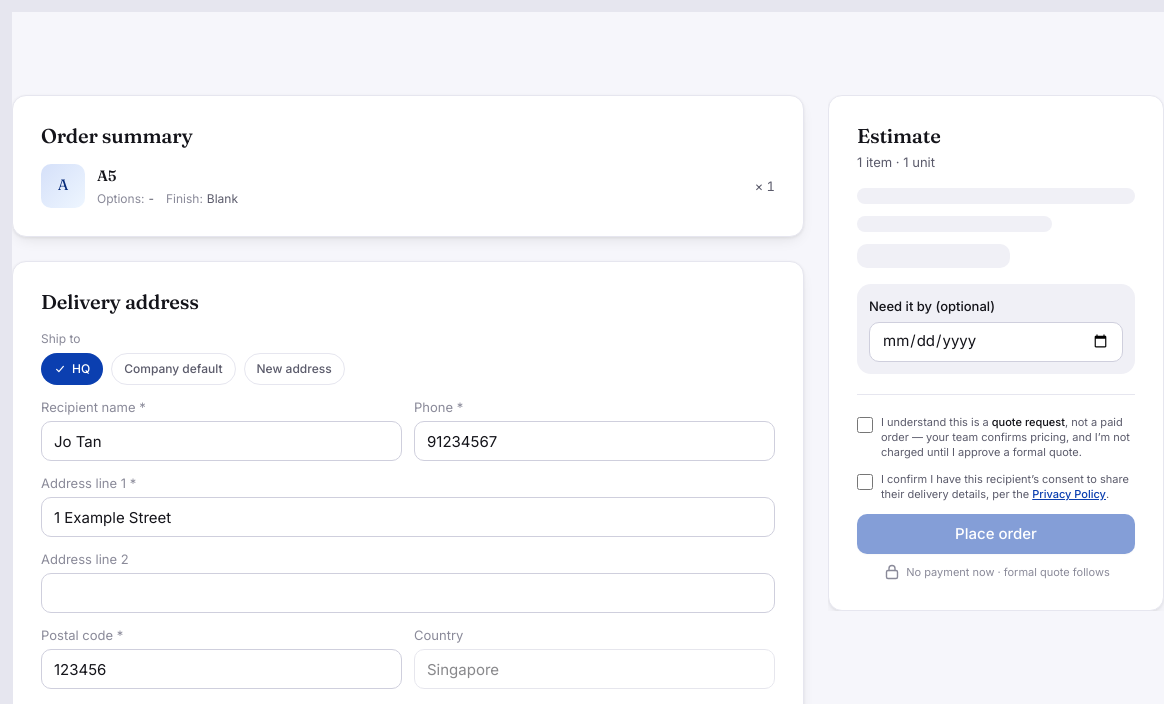
Test: falls back to the generic message when the store has no specific reason
The width and height of the screenshot is (1164, 704).
Click the checkbox labelled "quote request" at coordinates (865, 424), box [857,416,873,432]
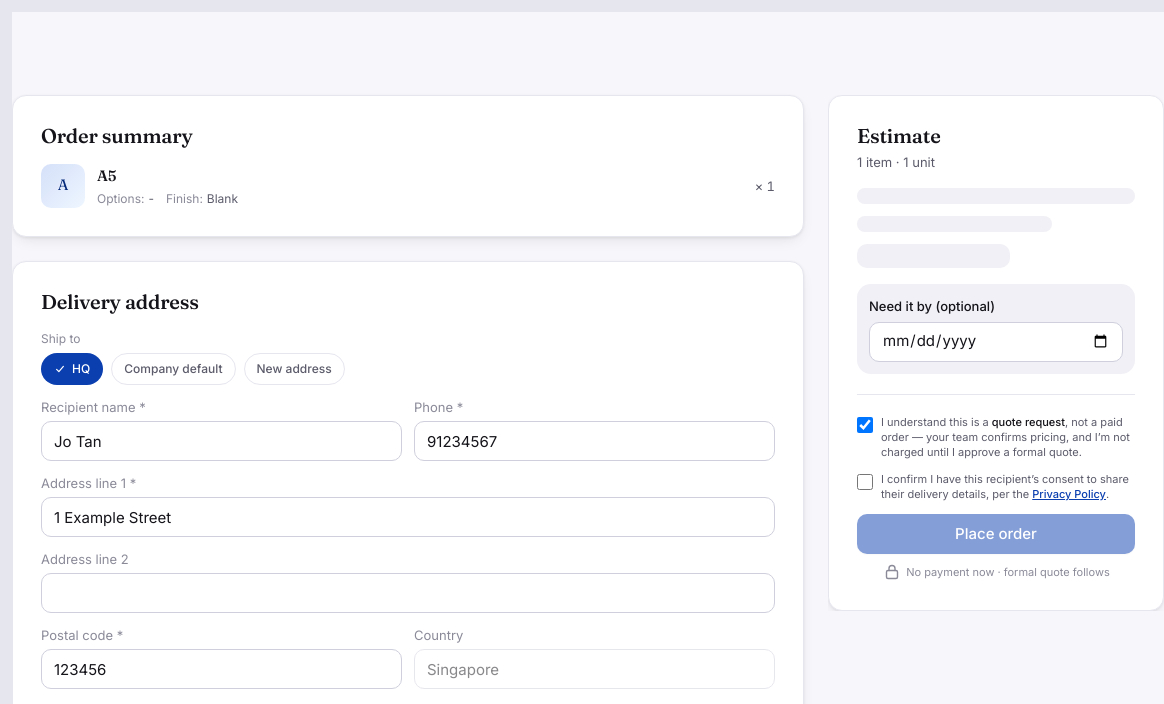
Click the checkbox labelled "recipient" at coordinates (865, 482), box [857,474,873,490]
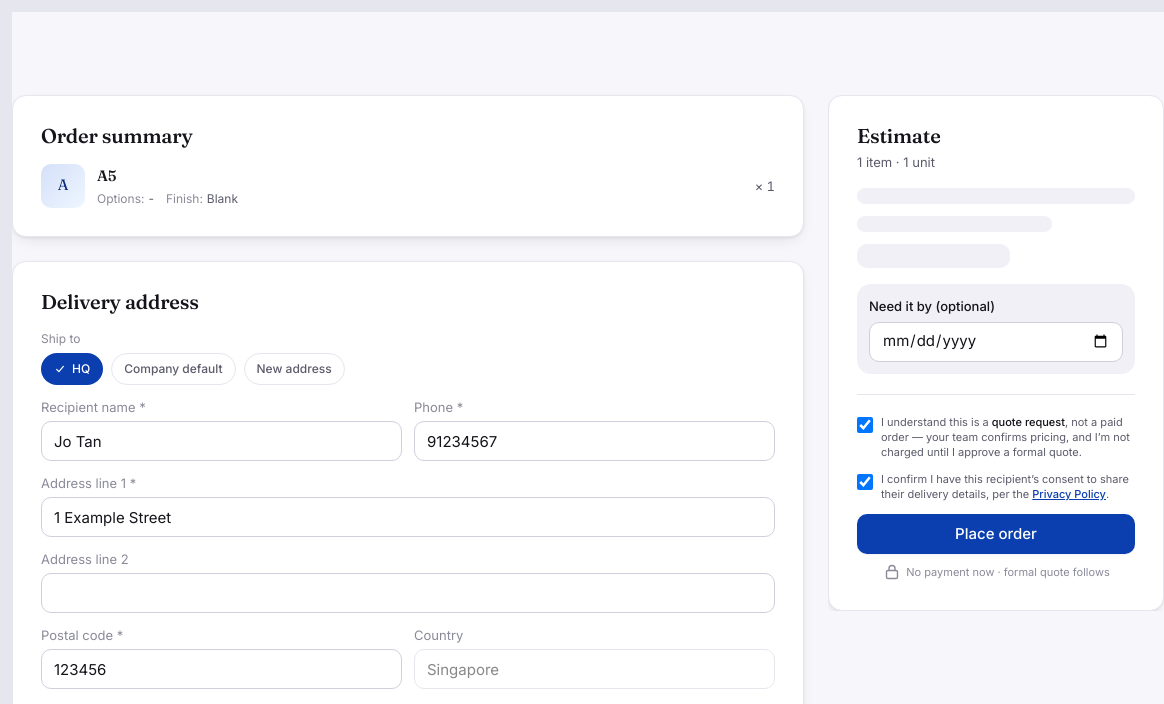
Click the button "Place order" at coordinates (996, 534), box [857,514,1135,554]
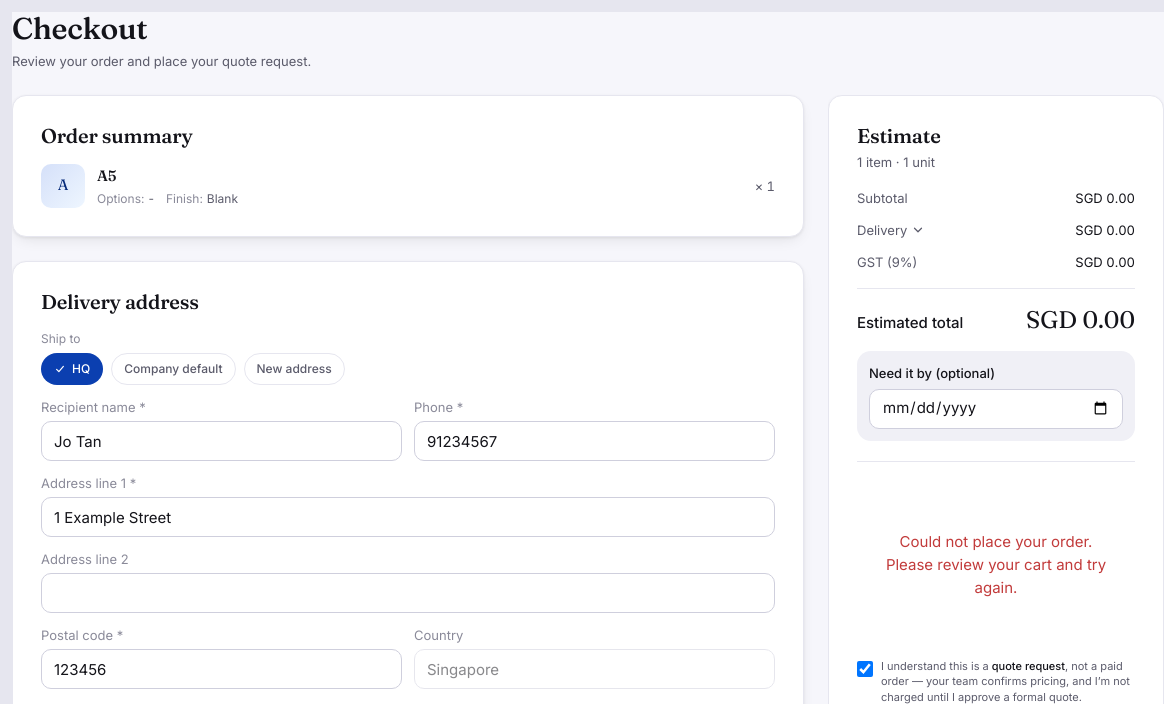
Now the text "Could not place your order. Please review your cart and try again" is shown, box [886,532,1106,597]
